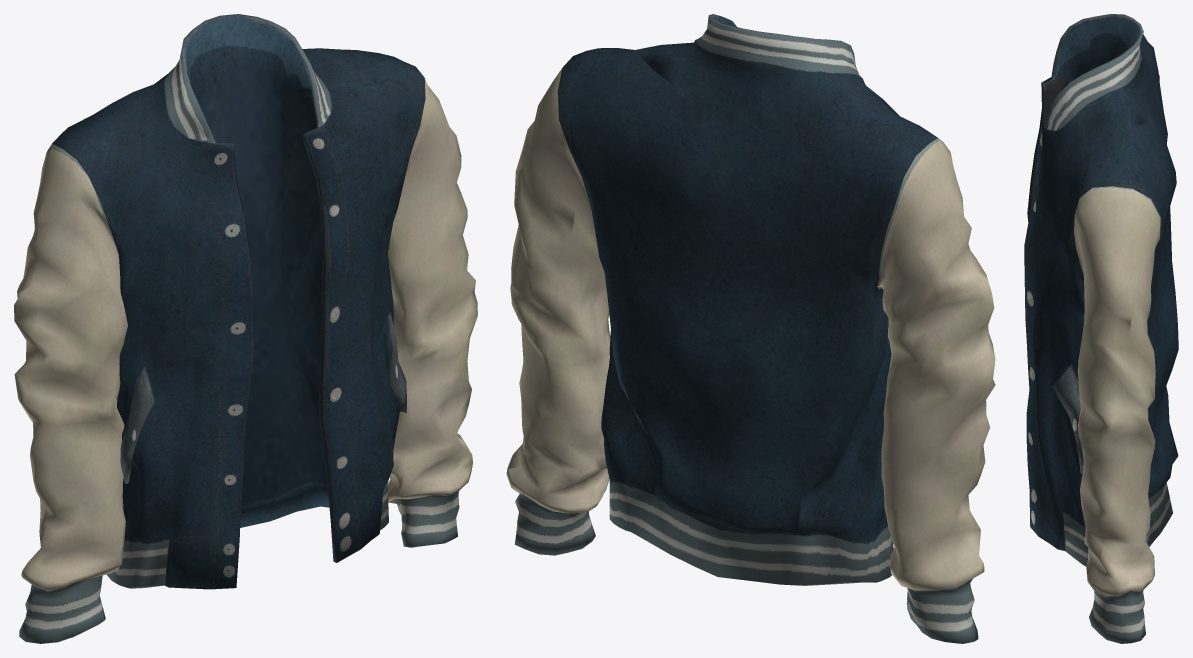
The model's file is YMJ-休闲外套.fbx.
3 renders of one model, left to right at view 1: azimuth 30°, elevation 25°; view 2: azimuth 150°, elevation 25°; view 3: azimuth 270°, elevation 25°, orthographic. The views are drawn at different scales.
Parts seen in each view (by area): view 1: YMJ-休闲外套; view 2: YMJ-休闲外套; view 3: YMJ-休闲外套.
Boxes of the visible parts, x1,y1,x2,y2 form: YMJ-休闲外套: (14,14,477,643); YMJ-休闲外套: (506,14,995,643); YMJ-休闲外套: (1024,14,1178,643).
Size of the model in its own units: 0.5965 by 0.1874 by 0.688.
